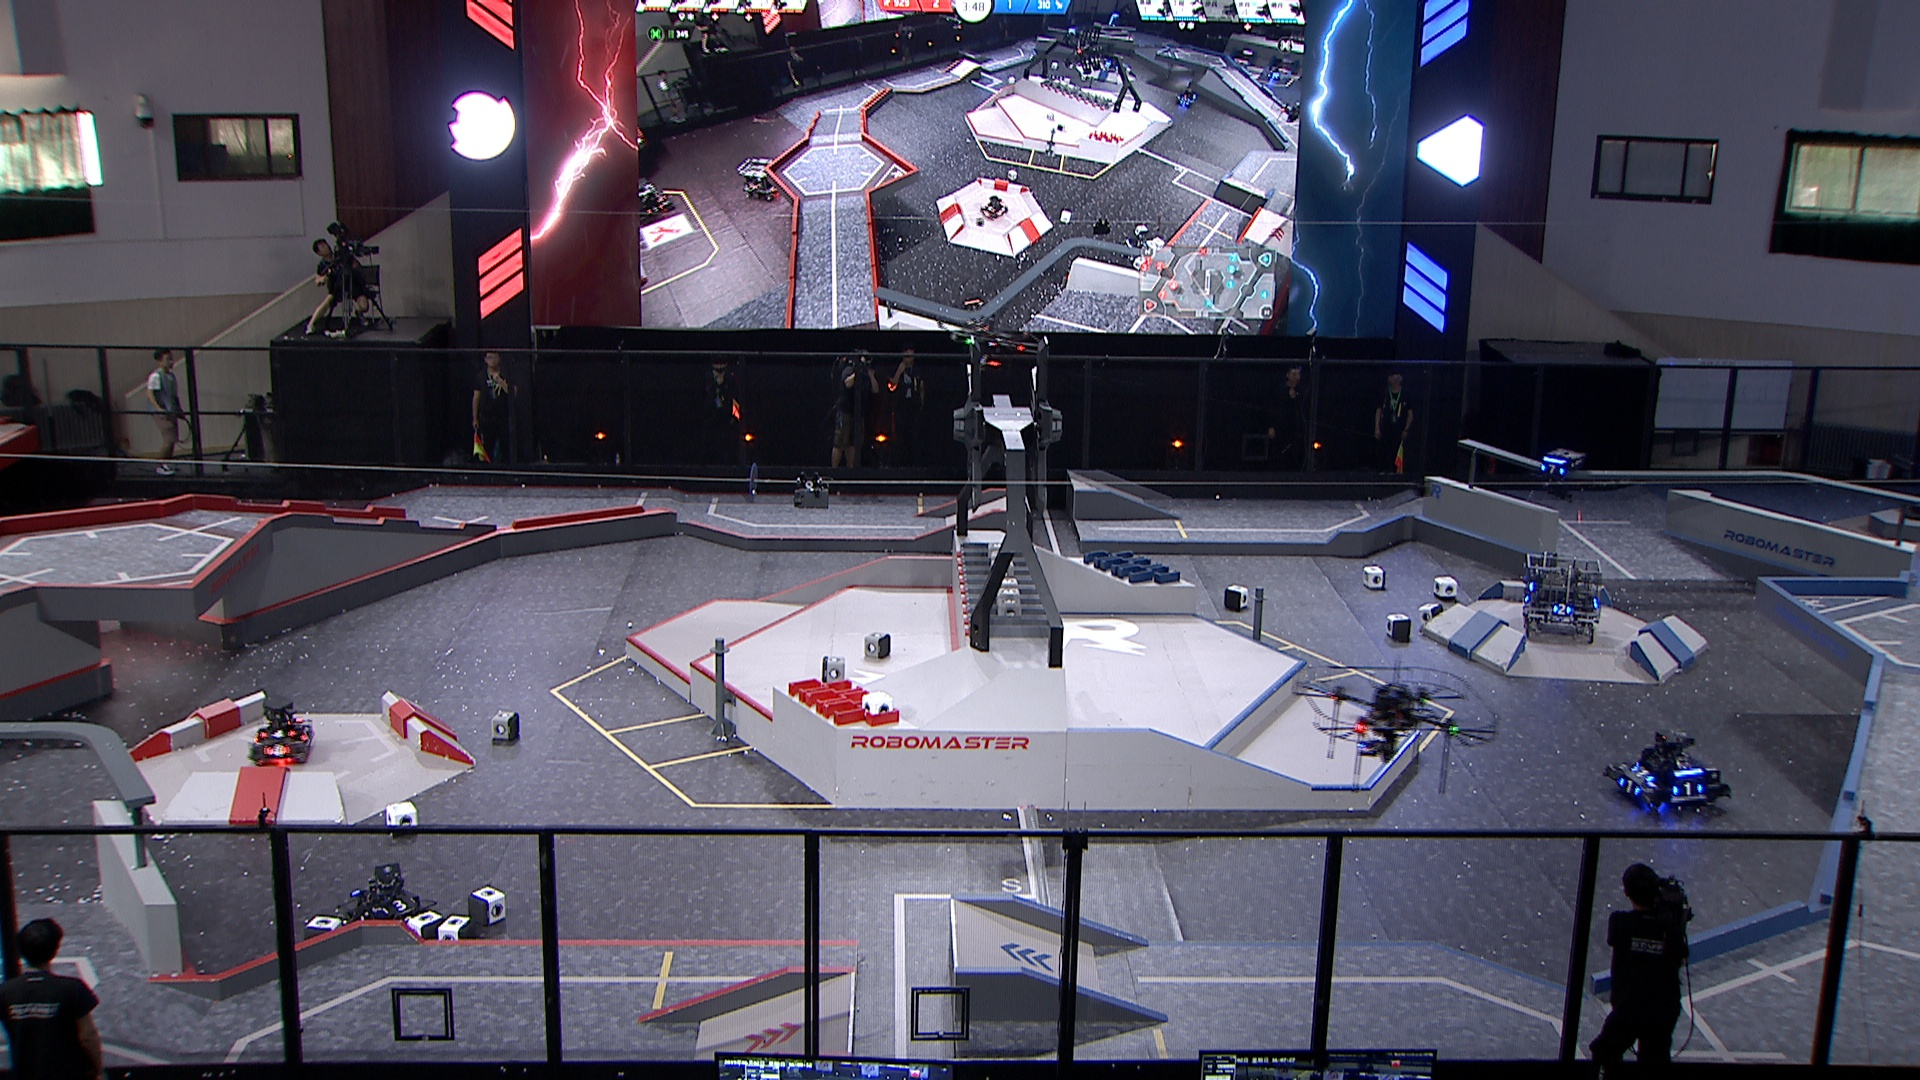armor: (381, 895, 417, 916), (1619, 775, 1643, 796), (1673, 781, 1702, 796), (1631, 764, 1651, 785), (261, 728, 294, 740), (1542, 462, 1567, 476), (264, 741, 289, 756), (1553, 603, 1571, 616), (299, 725, 310, 744)
car: (1604, 728, 1737, 814), (1515, 543, 1607, 644), (343, 861, 436, 931), (247, 698, 320, 761)
ignore: (736, 157, 785, 204), (636, 174, 678, 220), (957, 290, 992, 328), (978, 196, 1007, 219), (1102, 11, 1125, 34), (1178, 84, 1199, 105), (1266, 65, 1282, 86)
watcher: (1536, 440, 1589, 506)
